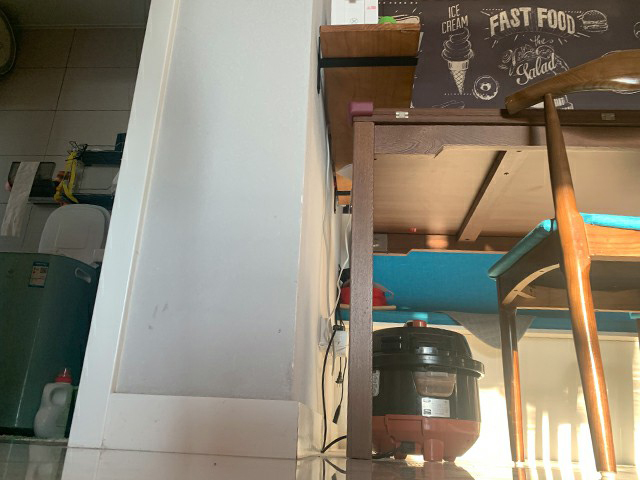stool: (488, 49, 640, 480)
table: (345, 101, 640, 462)
wire: (321, 327, 414, 460)
